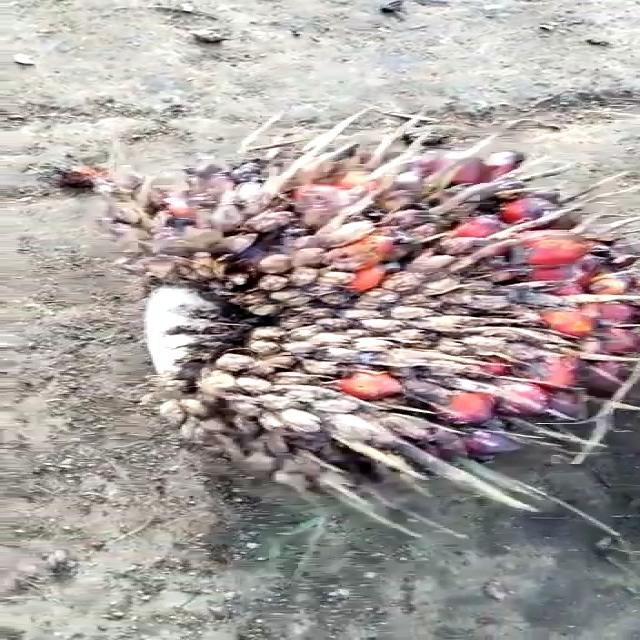palm oil: (86, 103, 640, 536)
